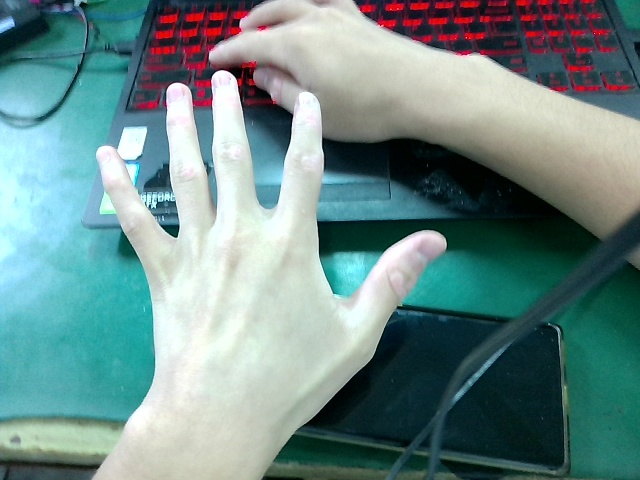paper: (75, 49, 451, 467)
